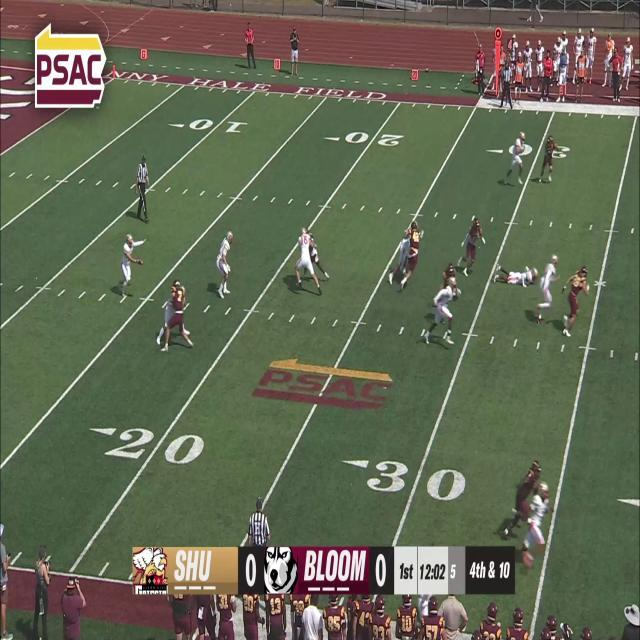football: (138, 258, 144, 265)
